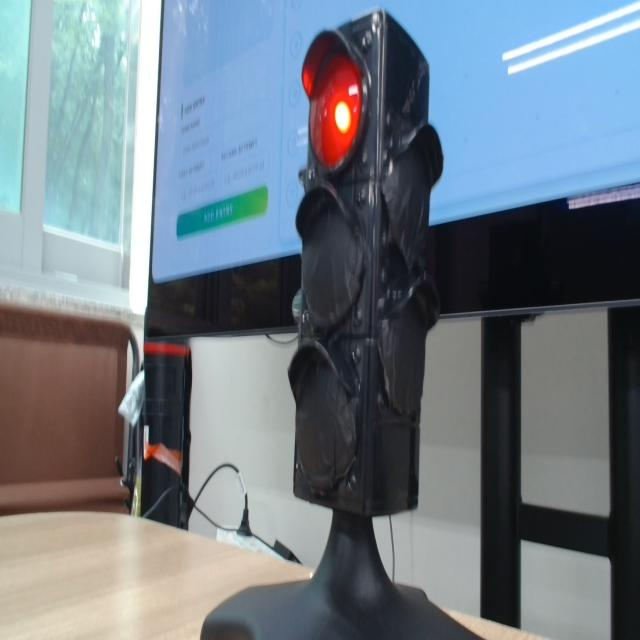red_light: (310, 53, 362, 168)
